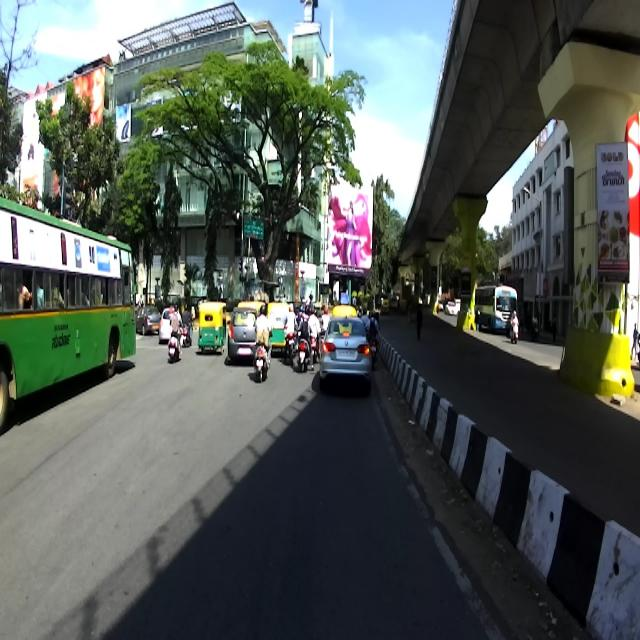bus: (0, 196, 138, 432)
